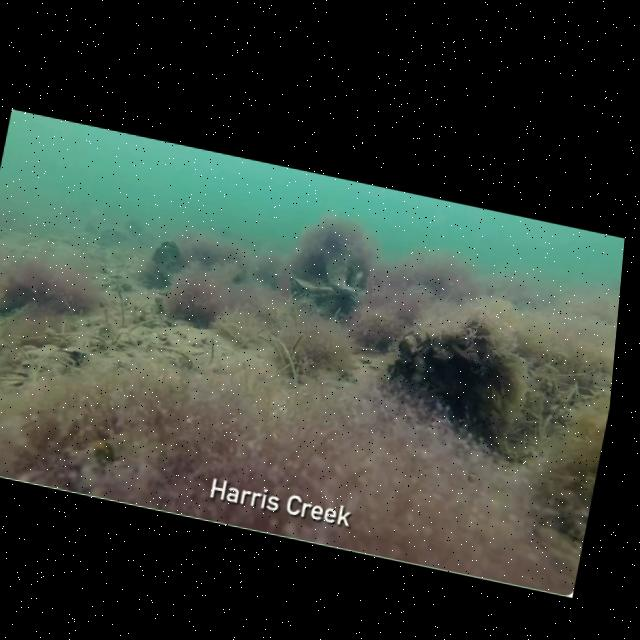Oyster-Closed: (322, 278, 362, 304), (446, 342, 474, 364)
Oyster-Indeterminate: (283, 270, 341, 309), (146, 234, 191, 281), (91, 223, 135, 254), (395, 332, 422, 366), (468, 363, 501, 385), (481, 406, 505, 432), (424, 369, 448, 392), (472, 335, 495, 359), (469, 381, 493, 403), (483, 381, 505, 404), (457, 397, 480, 419), (410, 352, 431, 376), (432, 348, 455, 367), (473, 402, 493, 421), (440, 385, 458, 401), (449, 377, 466, 393), (443, 362, 457, 380)
